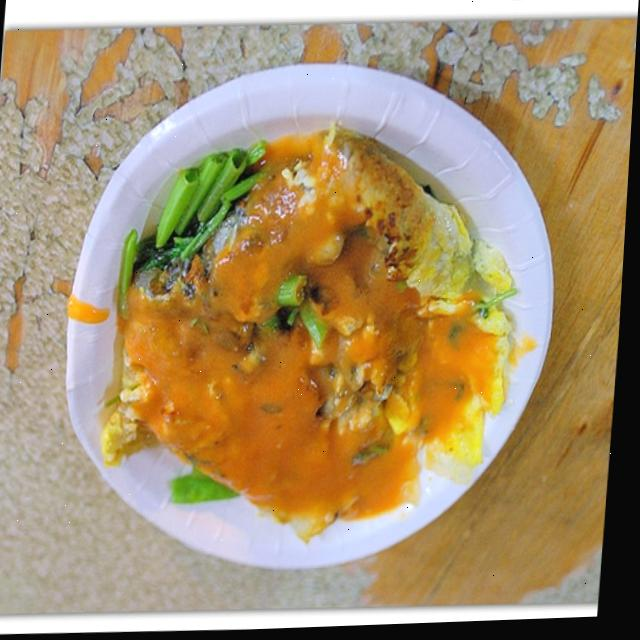熟制海鲜: (27, 52, 588, 583)
